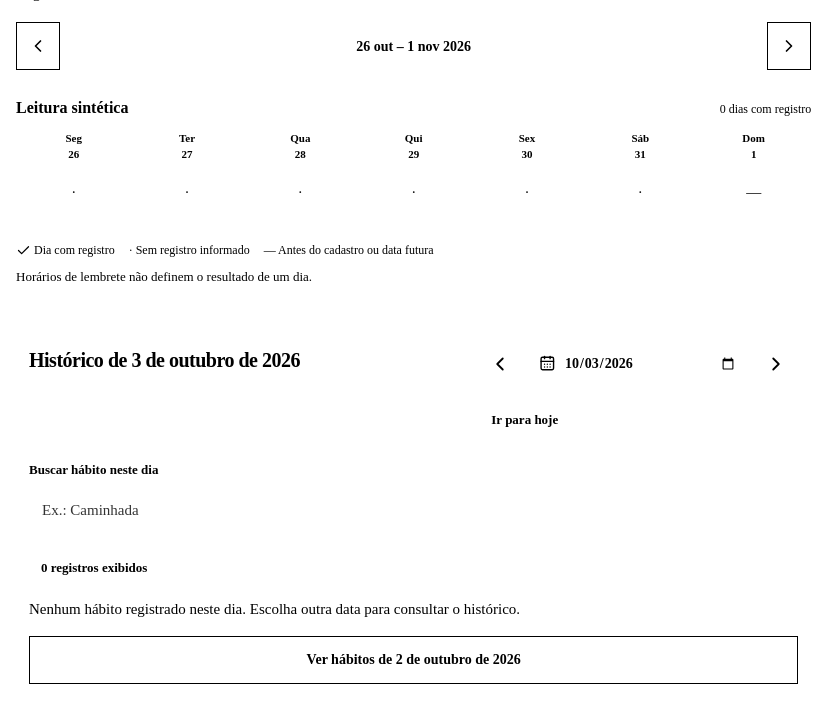
Test: atalho experimental ao último dia com hábito › abre o último dia anterior com hábito e foca a data
(page scrolled)
What coordinates should you click on to do the following:
click the button "Ver hábitos de 2 de outubro de 2026"
I would click on:
 (414, 660)
Its box is [29, 636, 798, 684].
(page scrolled)
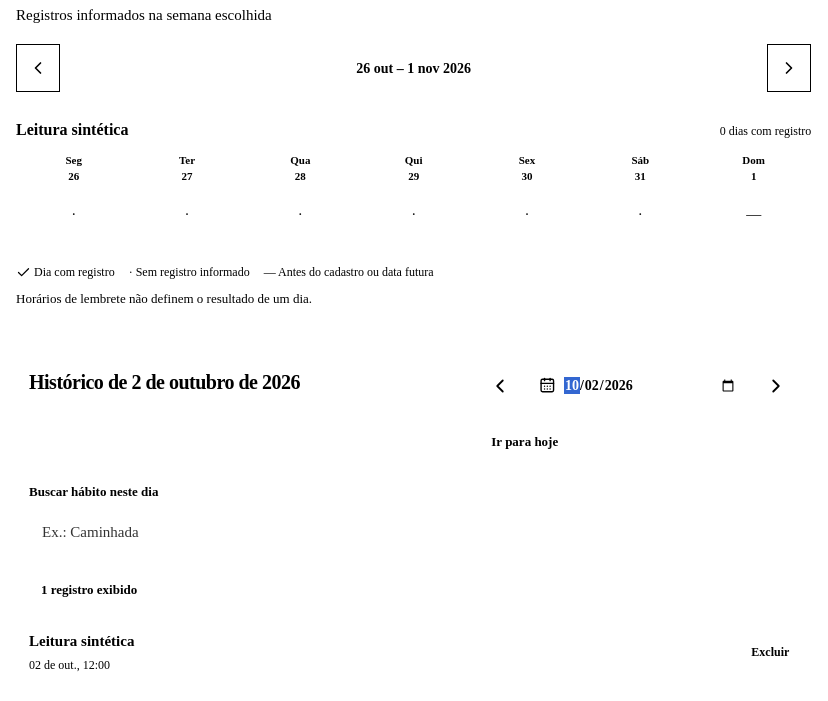
Expected: the date field named "Data do histórico de hábitos" holds "2026-10-02", [563, 374, 737, 397]
Expected: the text "Leitura sintética" below "1 registro exibido" is shown, [29, 632, 134, 648]
